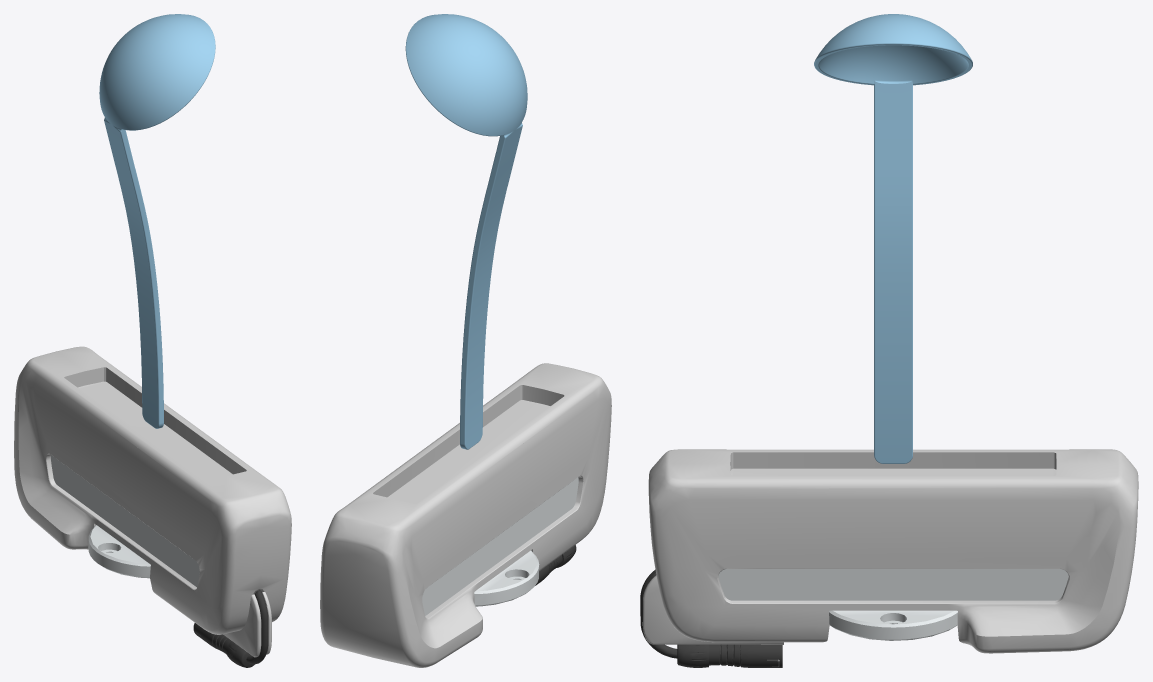
File: mount_hand.obj
3 renders of one model, left to right at view 1: azimuth 30°, elevation 25°; view 2: azimuth 150°, elevation 25°; view 3: azimuth 270°, elevation 25°, orthographic. The views are drawn at different scales.
Visible parts, largest first — view 1: node5_Part__Feature005.005, mesh29, node5_001_Part__Feature005.000, node2_Part__Feature002.011, node0_Part__Feature.011, node1_Part__Feature001.011; view 2: node5_Part__Feature005.005, mesh29, node5_001_Part__Feature005.000, node2_Part__Feature002.011; view 3: node5_Part__Feature005.005, mesh29, node5_001_Part__Feature005.000, node2_Part__Feature002.011, node0_Part__Feature.011.
Boxes of the visible parts, x1,y1,x2,y2 form: node5_Part__Feature005.005: [14, 346, 291, 657]; mesh29: [99, 14, 215, 428]; node5_001_Part__Feature005.000: [51, 455, 199, 587]; node2_Part__Feature002.011: [88, 525, 150, 578]; node0_Part__Feature.011: [193, 623, 254, 667]; node1_Part__Feature001.011: [246, 590, 268, 664]; node5_Part__Feature005.005: [320, 363, 611, 667]; mesh29: [405, 14, 527, 449]; node5_001_Part__Feature005.000: [422, 477, 578, 615]; node2_Part__Feature002.011: [474, 550, 539, 606]; node5_Part__Feature005.005: [642, 449, 1138, 653]; mesh29: [814, 14, 972, 463]; node5_001_Part__Feature005.000: [718, 569, 1068, 600]; node2_Part__Feature002.011: [829, 610, 957, 640]; node0_Part__Feature.011: [677, 644, 782, 667].
Bounding box in the file's own units: 0.063 × 0.2975 × 0.2045.
